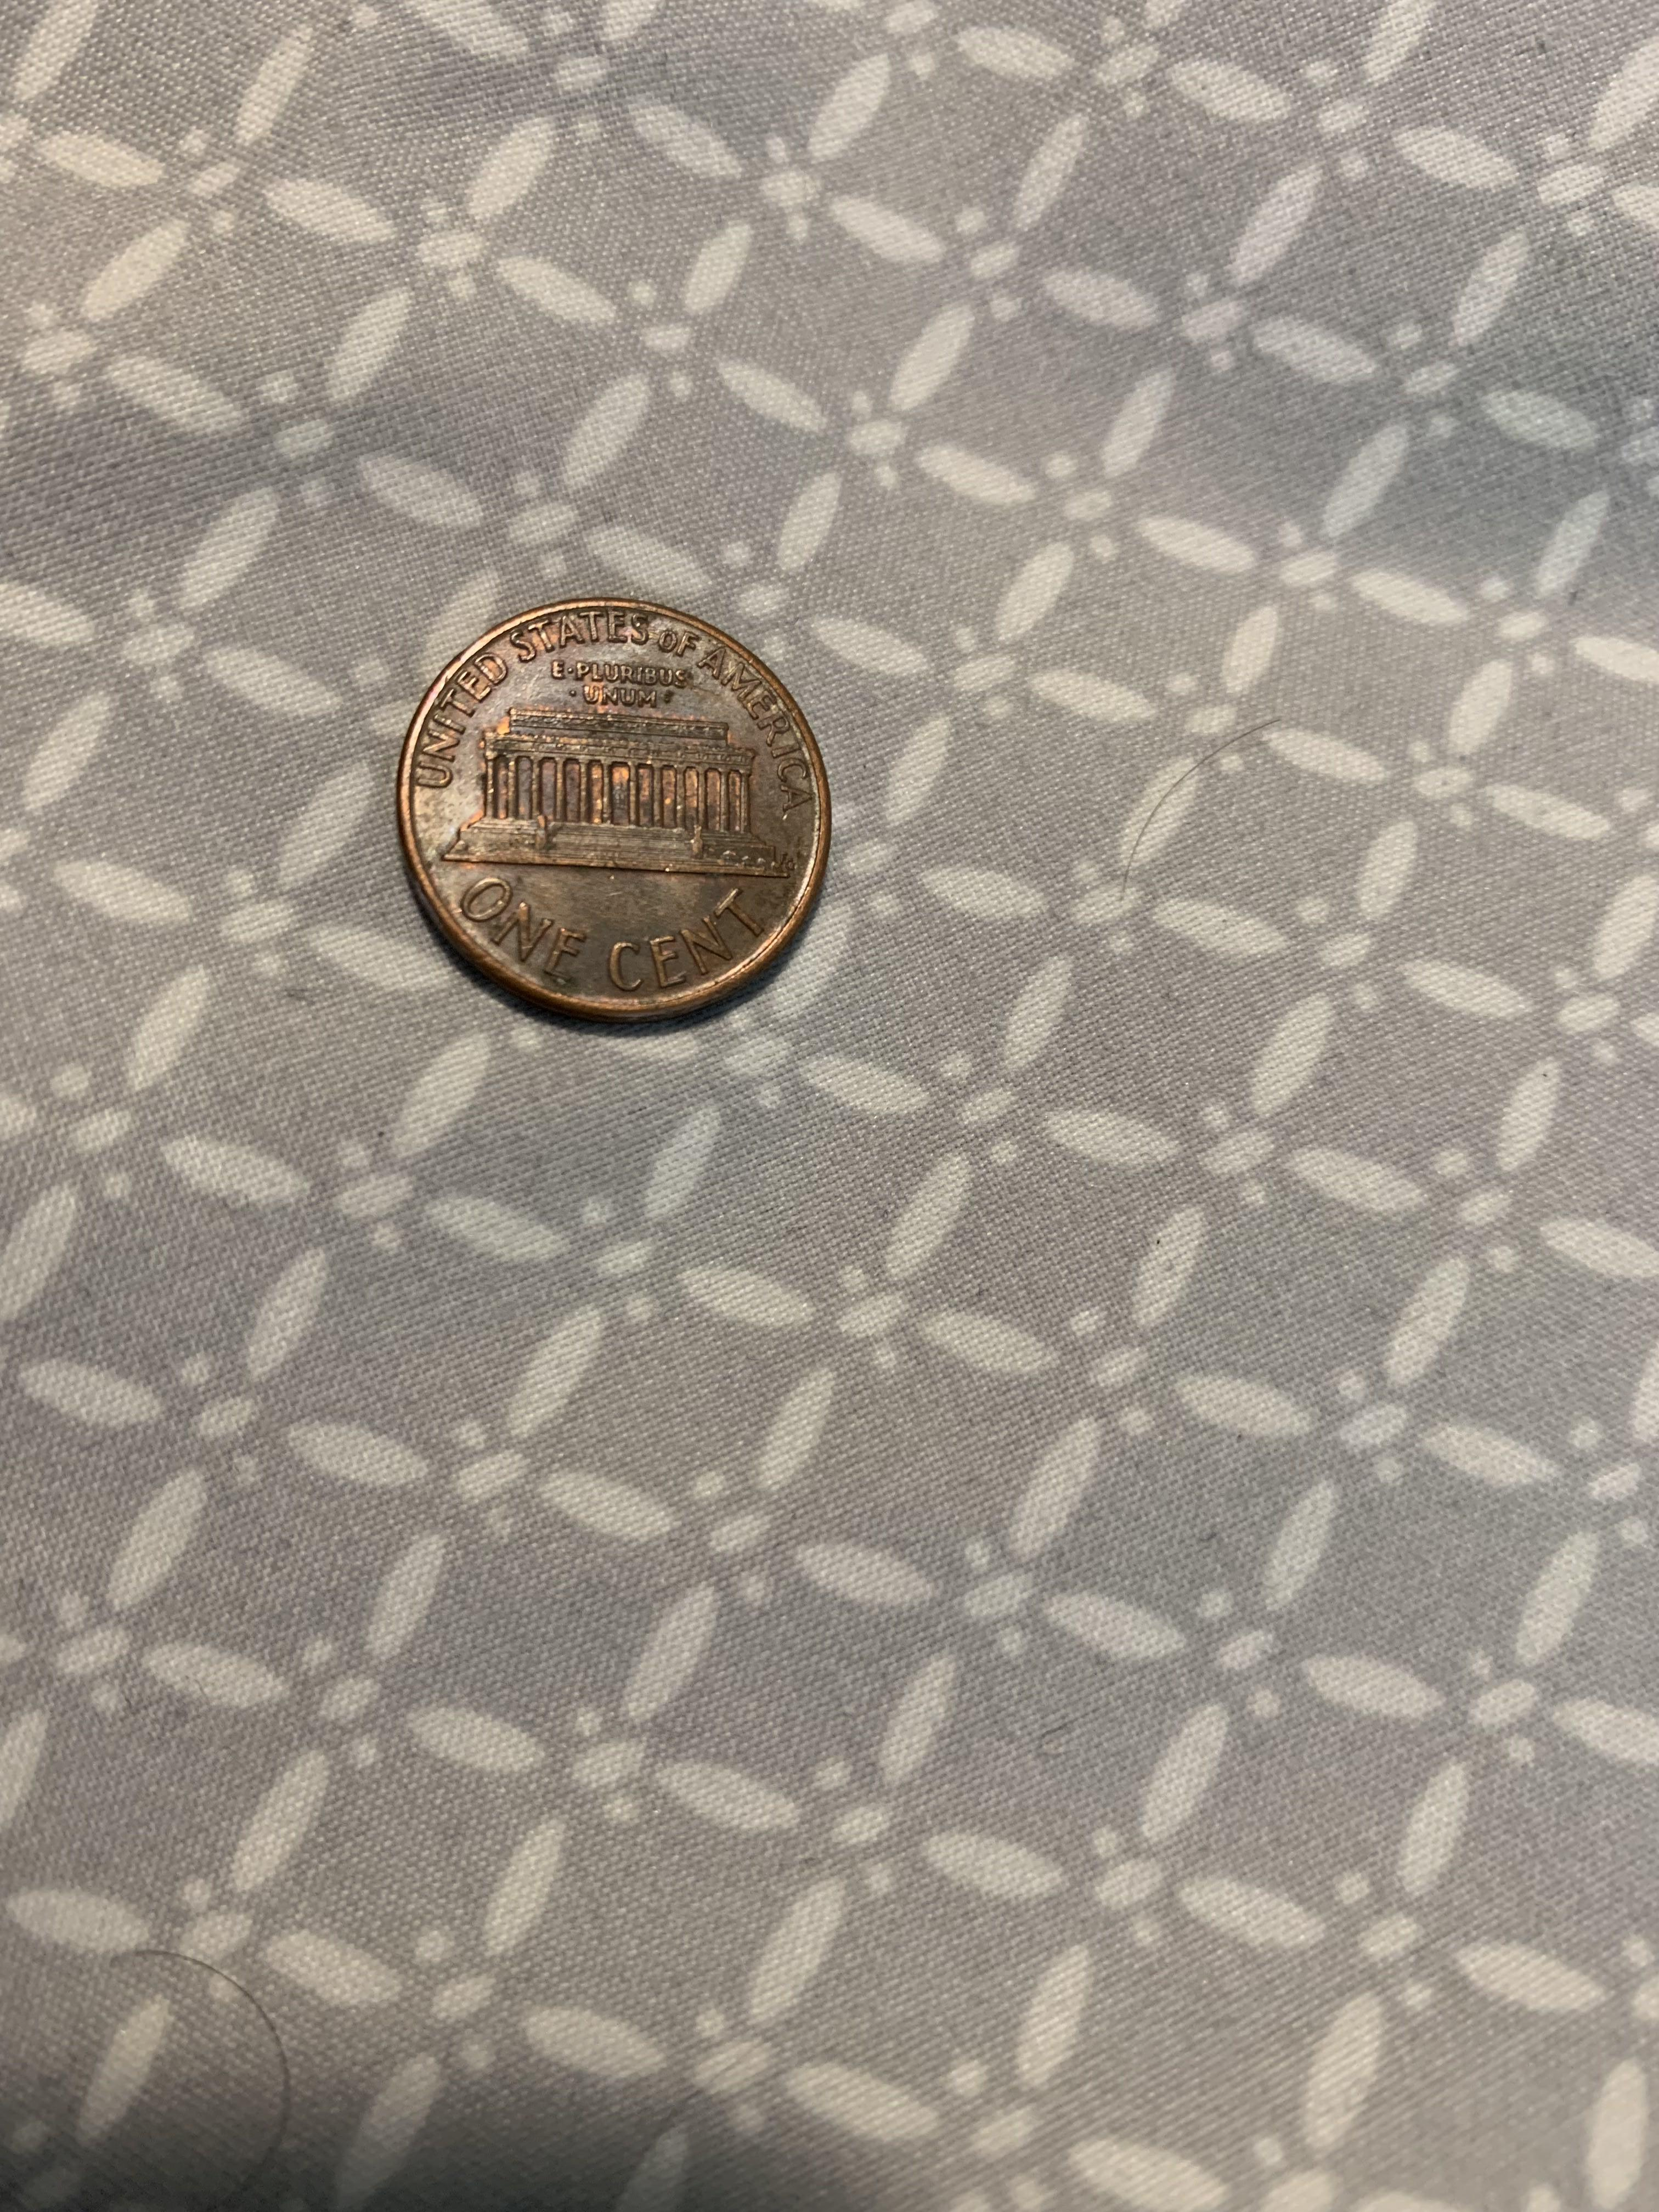Penny: (380, 573, 850, 1045)
